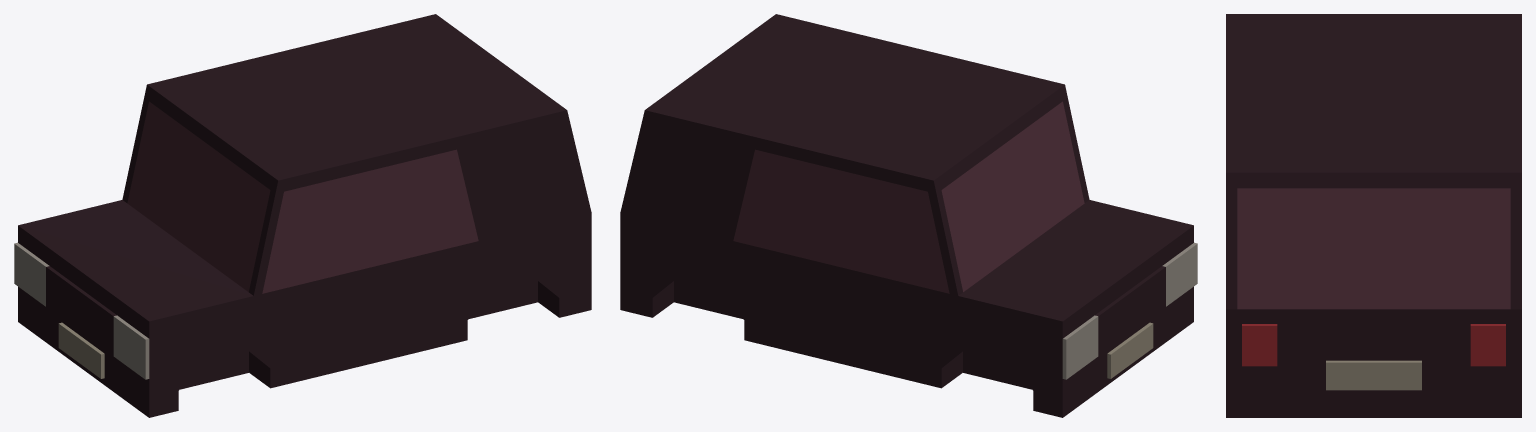
Rendered from Suv_Black.fbx.
The picture shows the model from 3 angles, left to right: view 1: azimuth 30°, elevation 25°; view 2: azimuth 150°, elevation 25°; view 3: azimuth 270°, elevation 25°; orthographic projection. The views are drawn at different scales.
Visible parts, largest first — view 1: Suv_Black, Suv_Lights; view 2: Suv_Black, Suv_Lights; view 3: Suv_Black, Suv_Lights.
Boxes of the visible parts, bbox=[...] form: Suv_Black: bbox=[18, 14, 591, 417]; Suv_Lights: bbox=[14, 242, 149, 379]; Suv_Black: bbox=[620, 14, 1193, 417]; Suv_Lights: bbox=[1062, 242, 1197, 379]; Suv_Black: bbox=[1226, 14, 1521, 417]; Suv_Lights: bbox=[1242, 324, 1505, 366].
Size of the model in its own units: 3.66 by 1.6 by 1.85.
